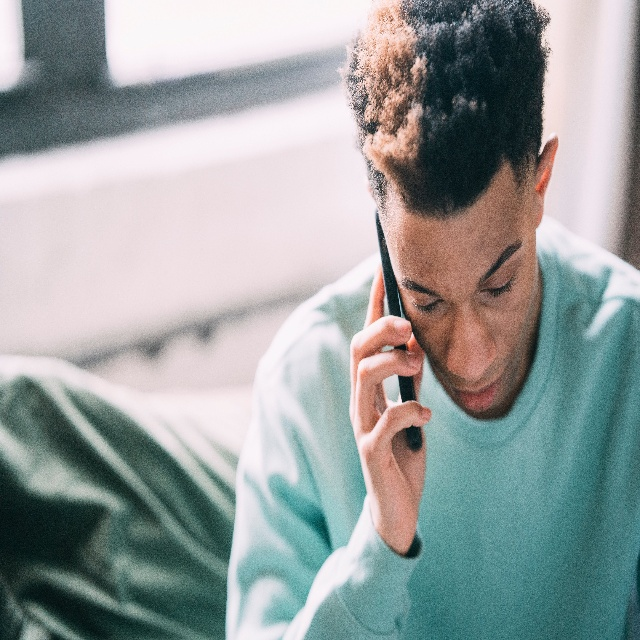Sin_guantes: (346, 260, 434, 541)
